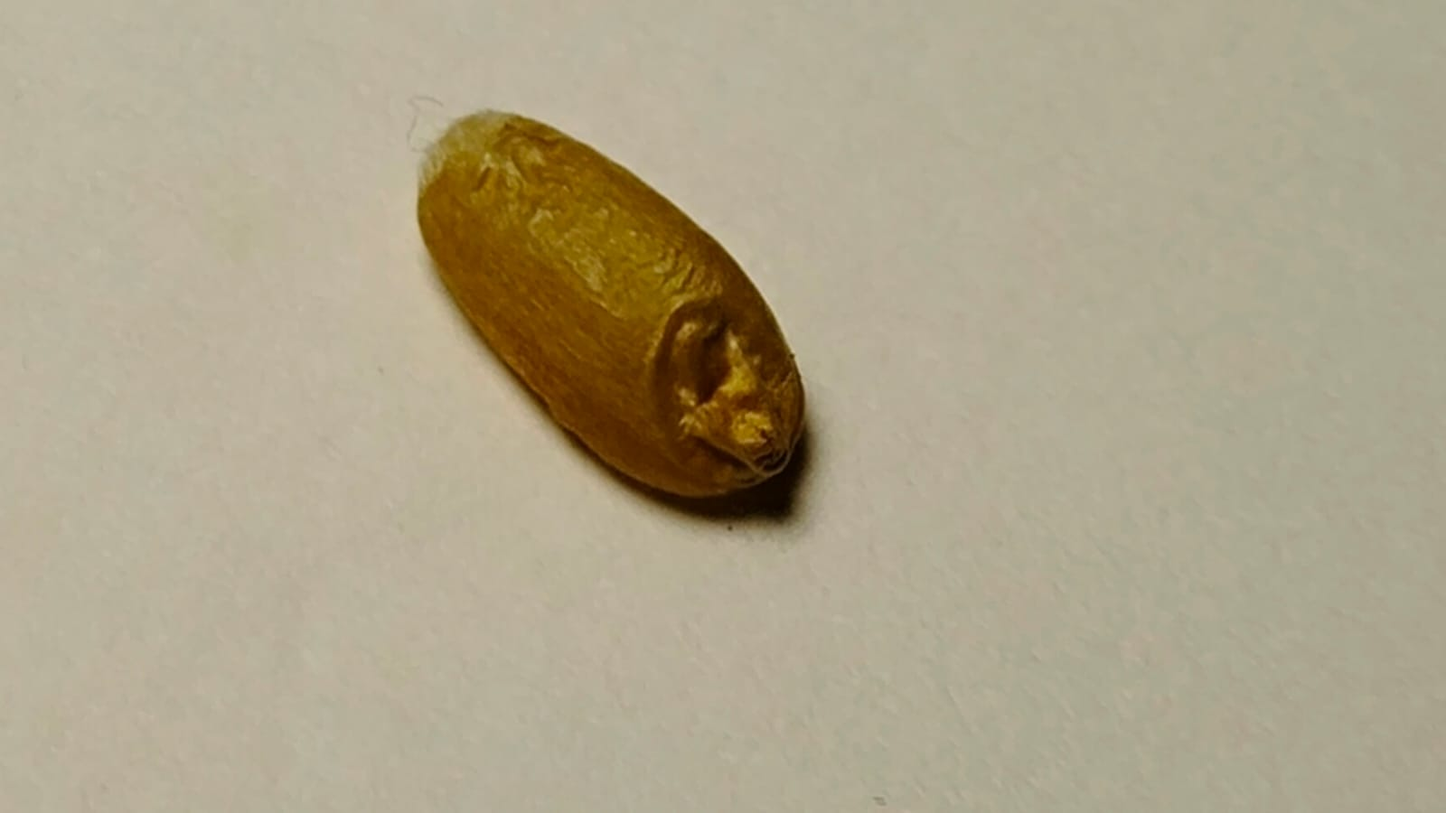healthy: (420, 111, 803, 496)
